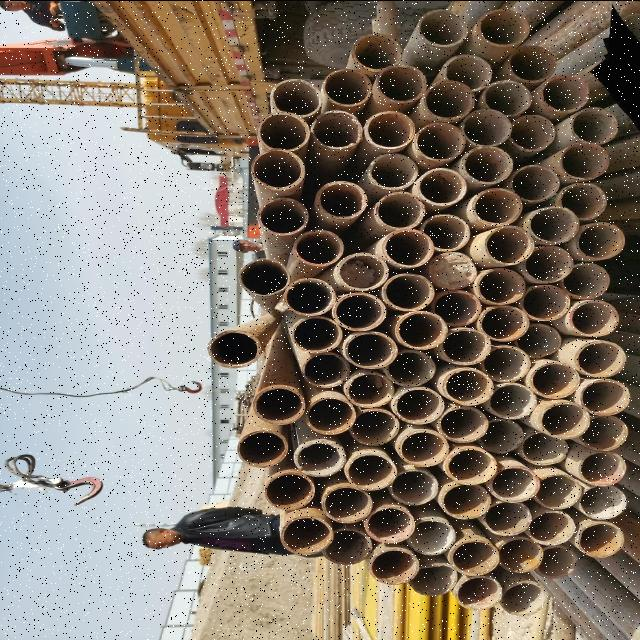pipe: (249, 147, 305, 189), (332, 250, 390, 290), (255, 110, 310, 150), (348, 31, 402, 71), (394, 310, 448, 350), (283, 276, 337, 316), (255, 195, 309, 235), (310, 108, 364, 148), (416, 7, 468, 48), (422, 78, 474, 119), (574, 220, 626, 260), (382, 228, 434, 268), (382, 271, 434, 311), (316, 178, 368, 218), (487, 463, 540, 502), (476, 8, 530, 46), (526, 205, 580, 243), (444, 447, 498, 485), (441, 366, 495, 404), (390, 386, 444, 424), (280, 516, 334, 554), (304, 396, 358, 434), (332, 292, 386, 330), (460, 144, 512, 183), (472, 187, 524, 226), (434, 405, 490, 441), (413, 121, 466, 159), (396, 428, 449, 466), (558, 180, 608, 220), (484, 225, 534, 265), (364, 503, 414, 543), (265, 470, 315, 510), (520, 245, 574, 282), (538, 401, 592, 438), (382, 349, 436, 386), (384, 467, 438, 504), (574, 339, 626, 377), (560, 260, 612, 298), (429, 288, 481, 326), (426, 251, 478, 289), (414, 166, 466, 204), (376, 64, 428, 102), (364, 110, 416, 148), (404, 516, 456, 554), (344, 452, 396, 490), (294, 438, 346, 476), (252, 386, 304, 424), (206, 330, 258, 368), (238, 257, 290, 295), (270, 77, 322, 115), (568, 297, 618, 336), (320, 526, 370, 565), (344, 332, 398, 368), (289, 315, 343, 351), (321, 67, 372, 105), (530, 361, 582, 398), (439, 326, 491, 363), (366, 547, 418, 584), (236, 431, 288, 468), (376, 188, 424, 228), (507, 44, 557, 82), (442, 52, 492, 90), (461, 107, 511, 145), (510, 164, 560, 202), (520, 282, 570, 320), (480, 343, 530, 381), (420, 212, 470, 250), (368, 151, 418, 189), (486, 381, 537, 418), (478, 305, 530, 341), (405, 560, 457, 596), (291, 228, 343, 264), (560, 141, 610, 178), (481, 78, 532, 114), (580, 377, 628, 415), (570, 105, 618, 143), (534, 471, 582, 509), (578, 484, 628, 520), (578, 449, 628, 485), (578, 414, 628, 450), (538, 74, 588, 110), (526, 508, 576, 544), (499, 579, 549, 615), (454, 574, 504, 610), (440, 482, 490, 518), (344, 371, 394, 407), (321, 487, 372, 522), (576, 520, 624, 557), (448, 540, 500, 574), (476, 267, 524, 303), (514, 321, 562, 357), (518, 430, 568, 464), (484, 499, 532, 534), (510, 113, 554, 151), (478, 417, 524, 453), (302, 351, 348, 387), (497, 537, 542, 572), (534, 544, 578, 578)
